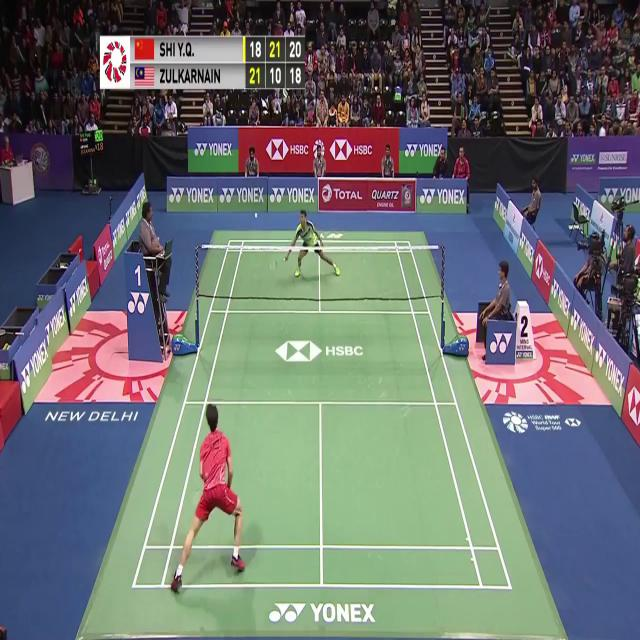Shuttlecock: (253, 210, 259, 222)
